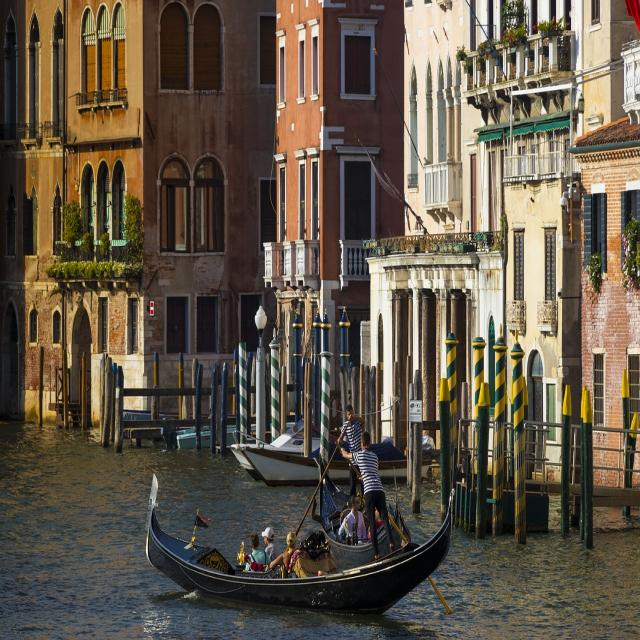boat: (118, 412, 469, 640)
